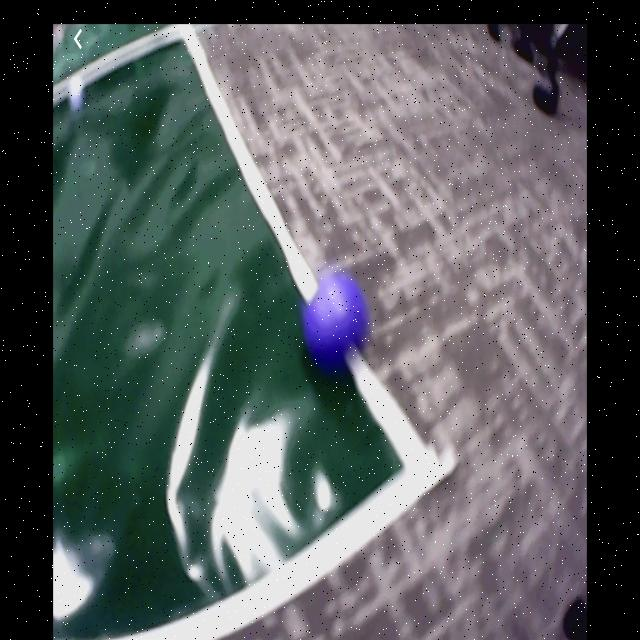ball: (302, 278, 369, 365)
